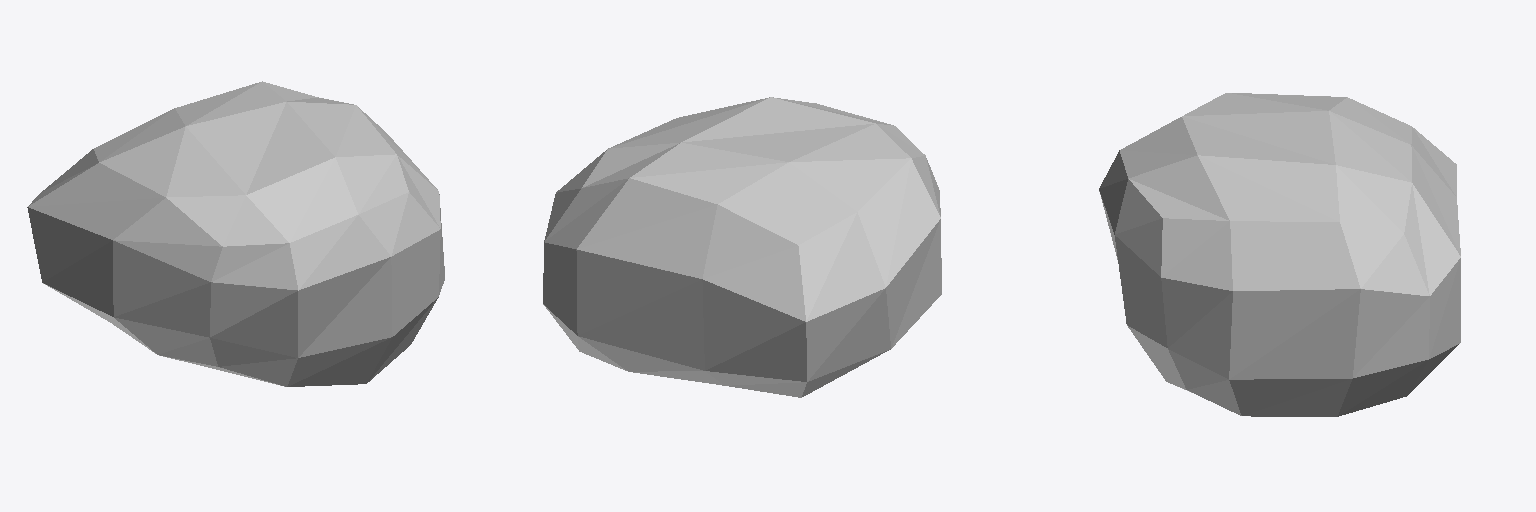
The model's file is Rock3.obj.
3 renders of one model, left to right at view 1: azimuth 30°, elevation 25°; view 2: azimuth 150°, elevation 25°; view 3: azimuth 270°, elevation 25°, orthographic.
Visible parts, largest first — view 1: Group31728; view 2: Group31728; view 3: Group31728.
Boxes of the visible parts, box(x1,y1,x2,y2) form: Group31728: box(27, 81, 444, 386); Group31728: box(543, 97, 941, 397); Group31728: box(1099, 93, 1460, 416).
Size of the model in its own units: 0.4319 by 0.2925 by 0.3908.